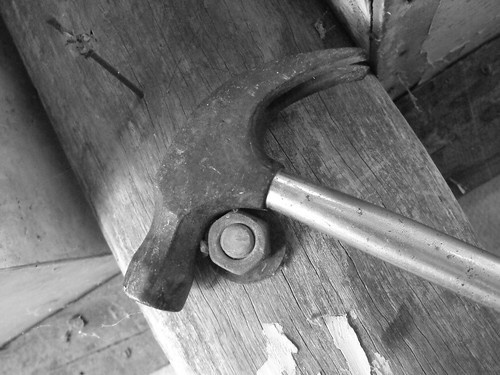hammer: (123, 44, 500, 315)
